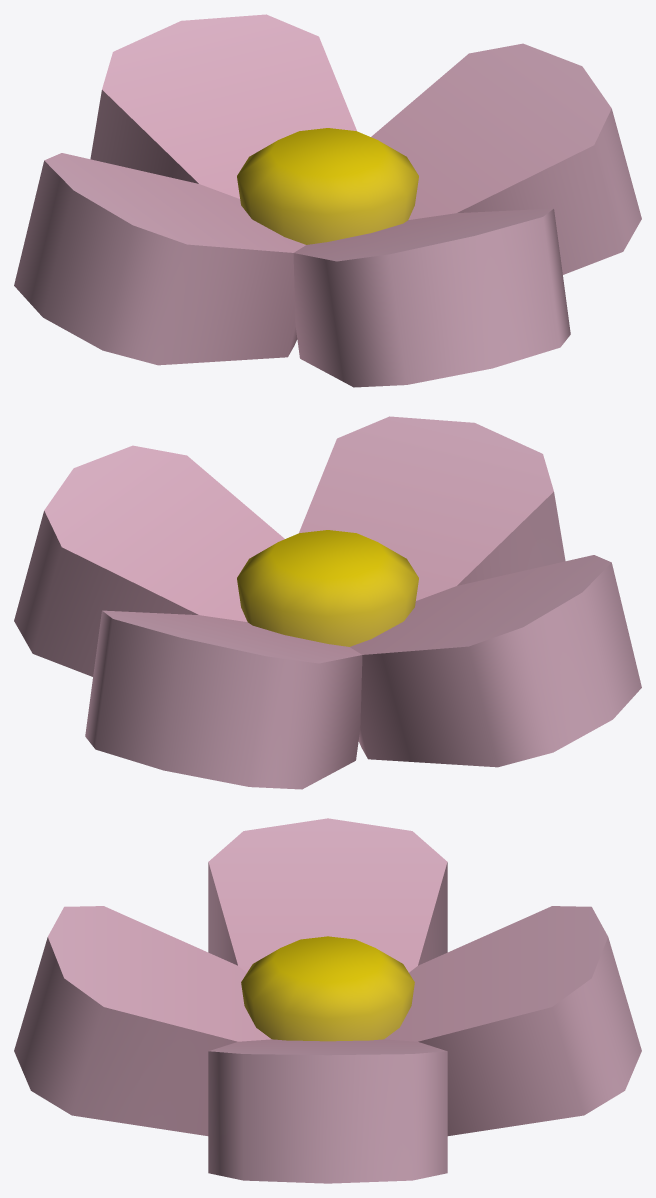
File: flower-e.glb
3 views of the same model, one above another, from view 1: azimuth 30°, elevation 25°; view 2: azimuth 150°, elevation 25°; view 3: azimuth 270°, elevation 25° (orthographic). The views are drawn at different scales.
Visible parts, largest first — view 1: flower-e; view 2: flower-e; view 3: flower-e.
Boxes of the visible parts, x1,y1,x2,y2 form: flower-e: (14, 14, 641, 387); flower-e: (14, 416, 641, 789); flower-e: (14, 818, 641, 1183).
Size of the model in its own units: 0.1445 by 0.0442 by 0.1445.
